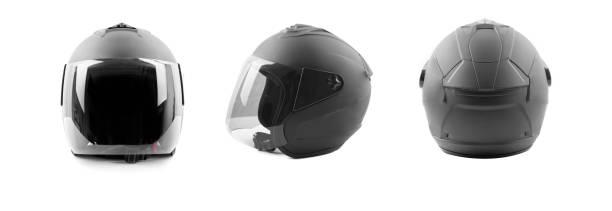helmet: (410, 7, 575, 175), (225, 11, 375, 181), (49, 17, 205, 178)
